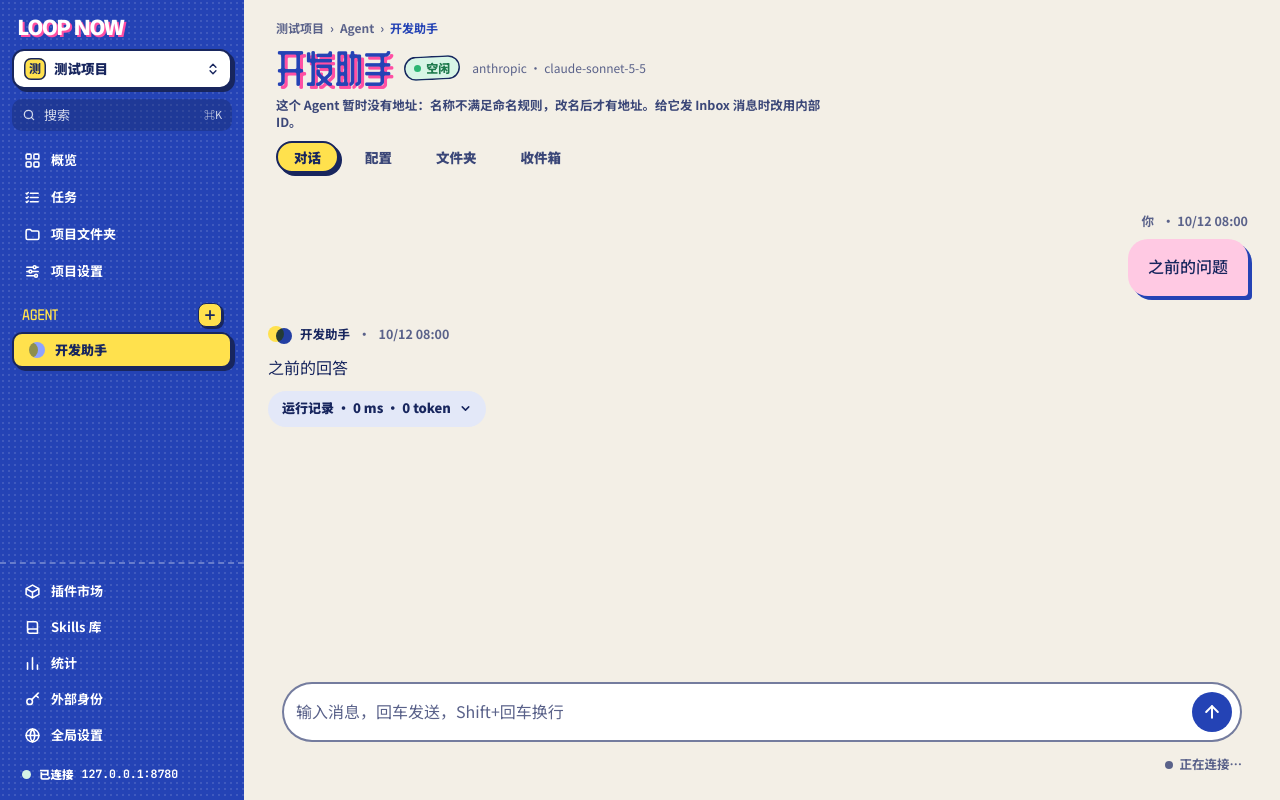
Test: 历史请求进行中到达的事件 › 发送结果在重新获取进行中到达时不丢失
Expected: the element named "对话" is shown, [268,213,1248,427]
Expected: the text "之前的回答" is shown, [268,358,348,377]
Type "新消息" into the text box labelled "消息" at (738, 712), box [292,692,1184,732]
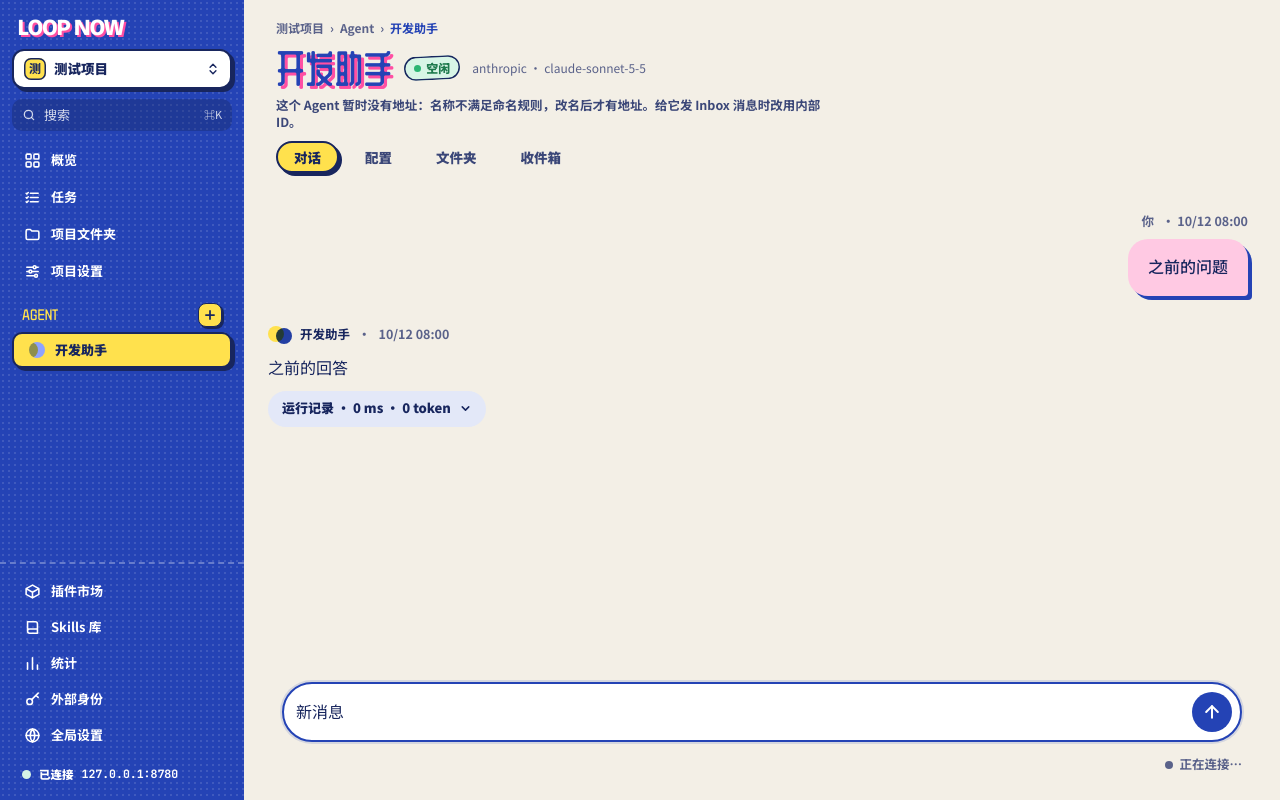
Click the button named "发送" at (1212, 712), box [1192,692,1232,732]
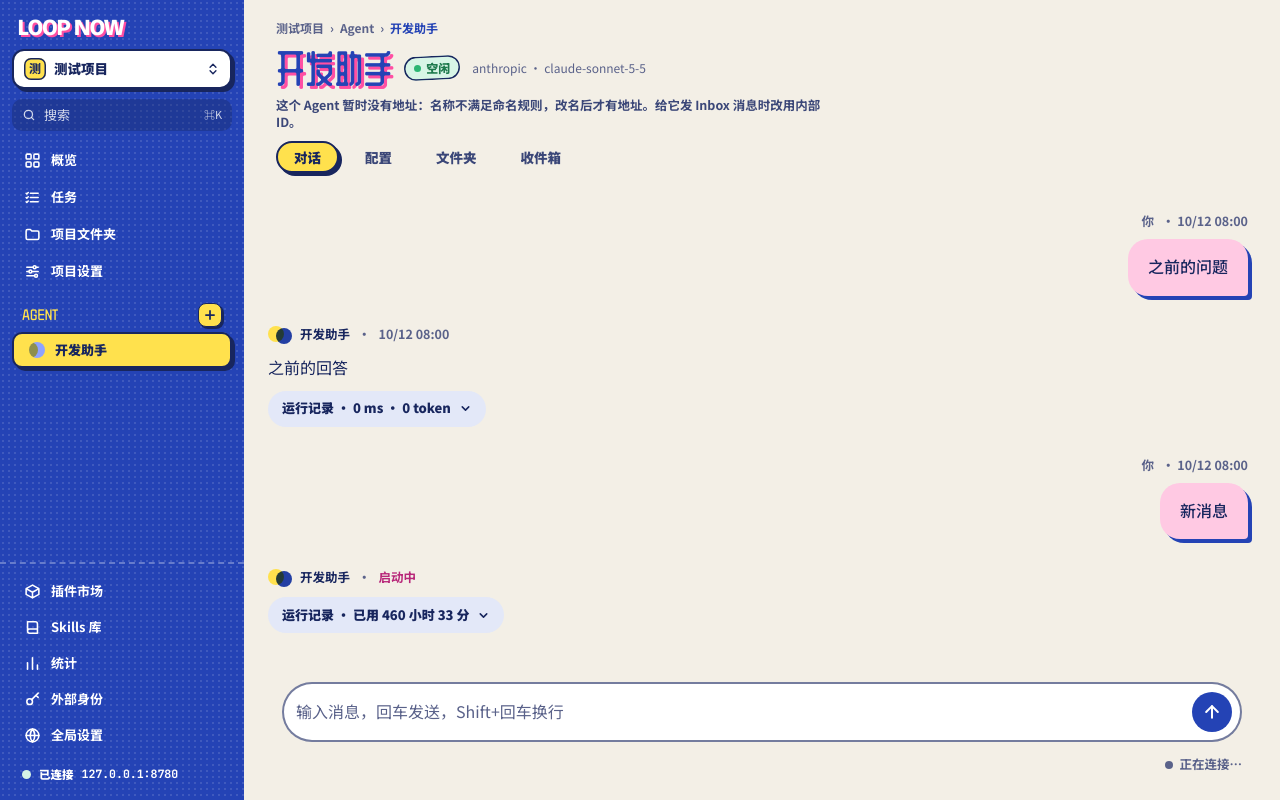
Now the text box labelled "消息" is empty, box [292,692,1184,732]
Now the text "新消息" is shown, box [1160,483,1248,539]
